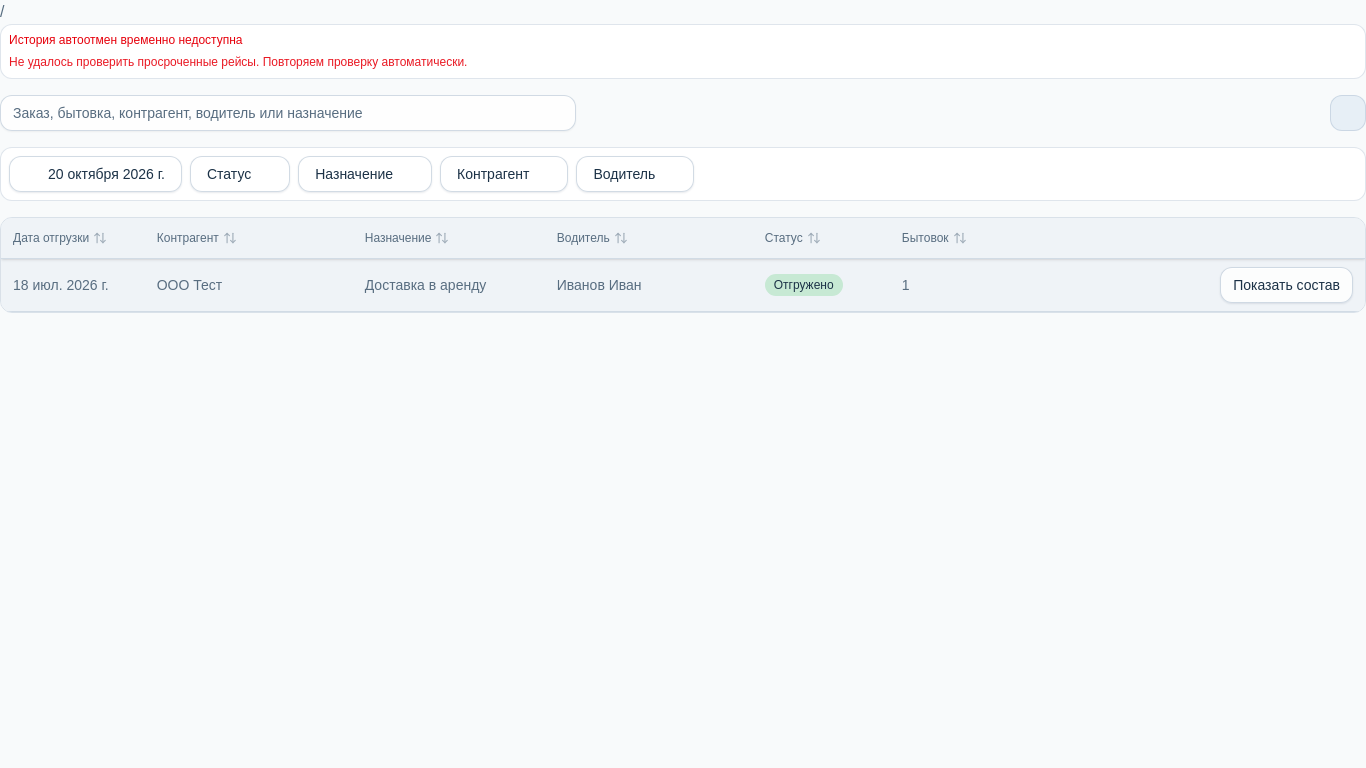
LogisticsShipmentsPage › shows order contacts, rental details, drivers, and the cabin filling status when expanded
Click the button "Показать состав" at (1287, 285), box [1220,267,1353,303]
(page scrolled)
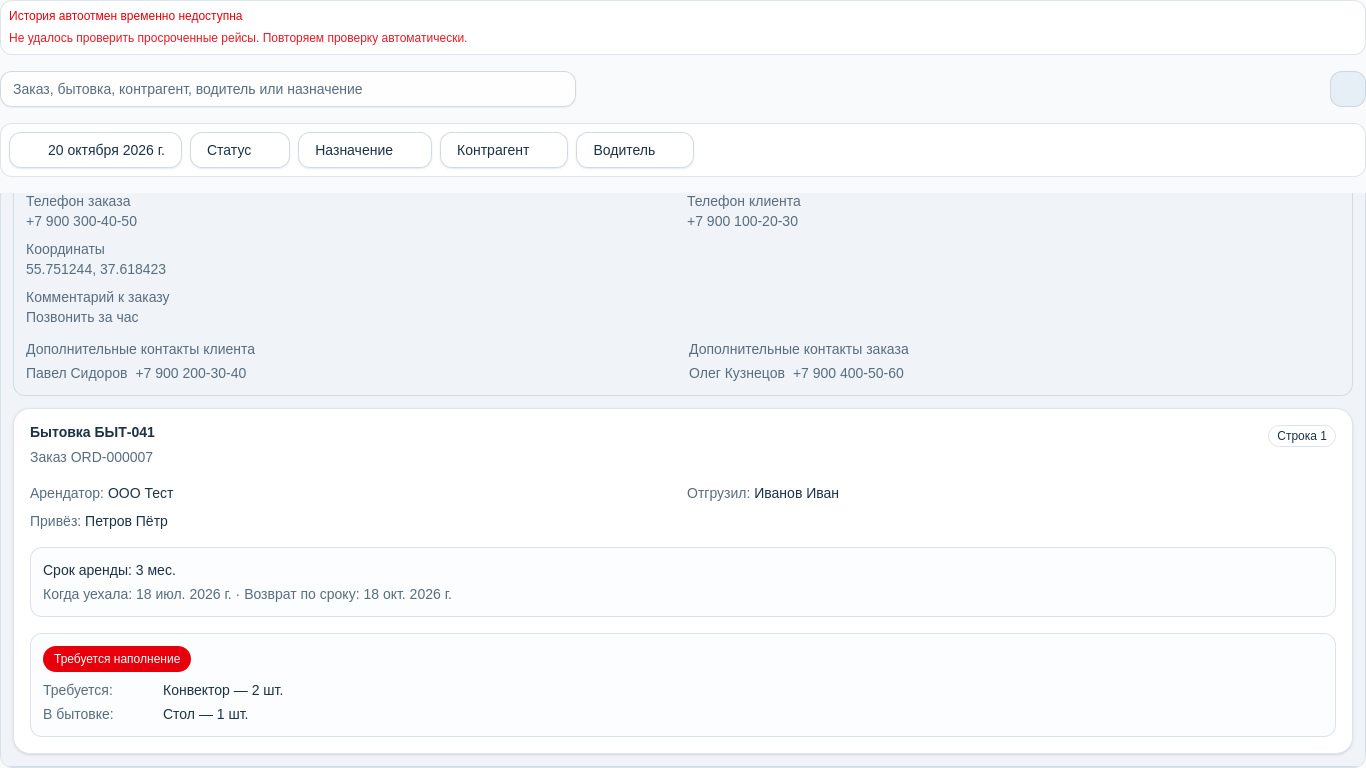
Result: the text "55.751244, 37.618423" is shown at [26,261,166,277]
Result: the link "+7 900 300-40-50" is shown at [26,213,137,229]
Result: the text "Требуется наполнение" is shown at [43,646,191,672]
